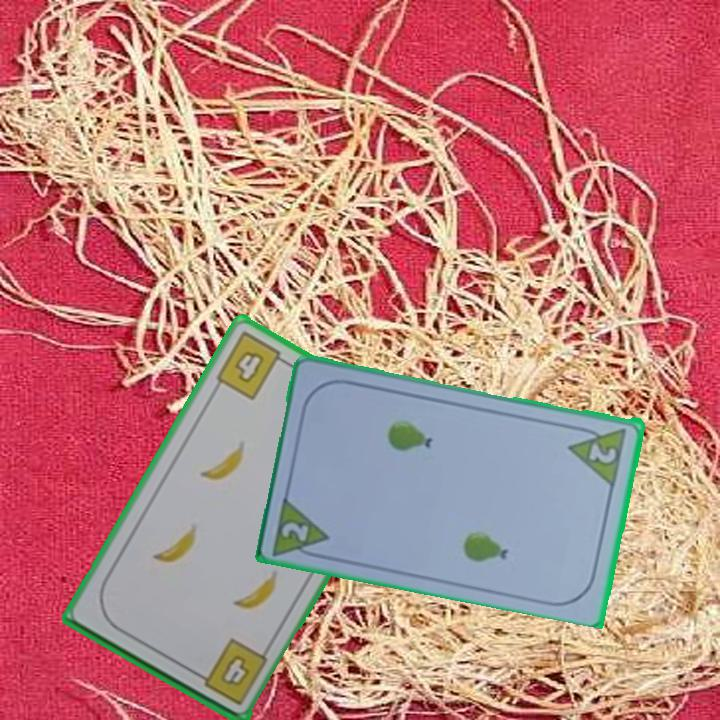2p: (566, 421, 630, 487), (278, 518, 312, 545)
4b: (212, 327, 293, 403), (191, 634, 271, 708)
